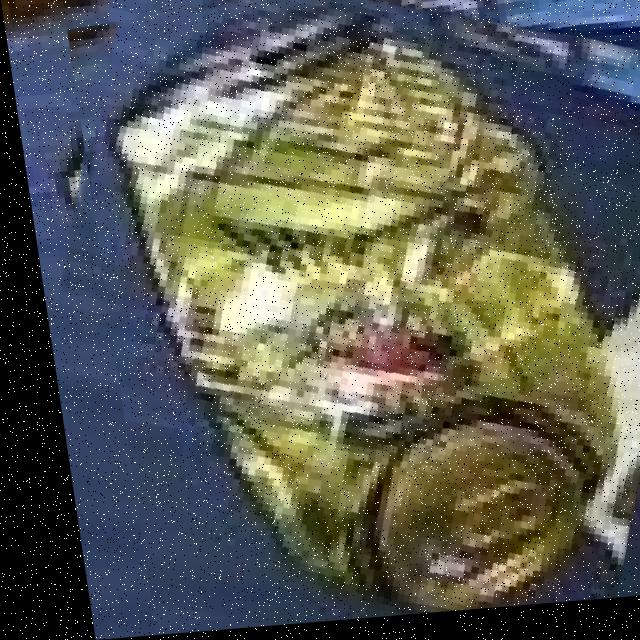can: (91, 3, 625, 624)
